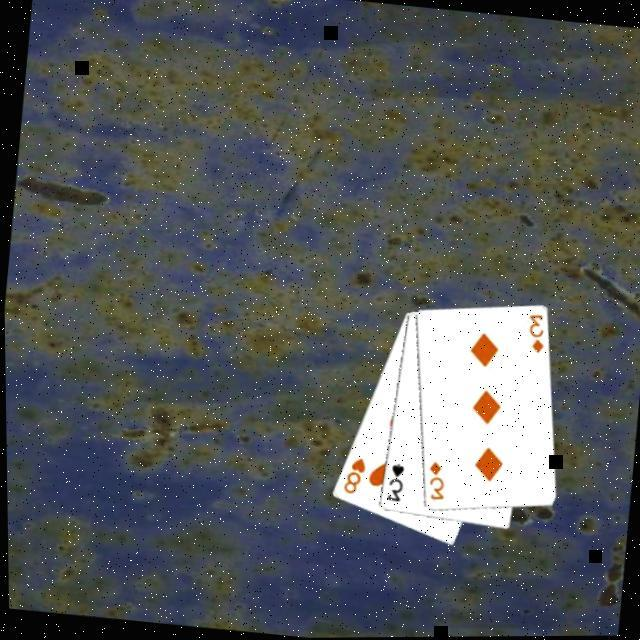3D: (420, 456, 448, 502), (520, 310, 547, 356)
3S: (380, 458, 405, 503)
8H: (336, 452, 367, 496)
